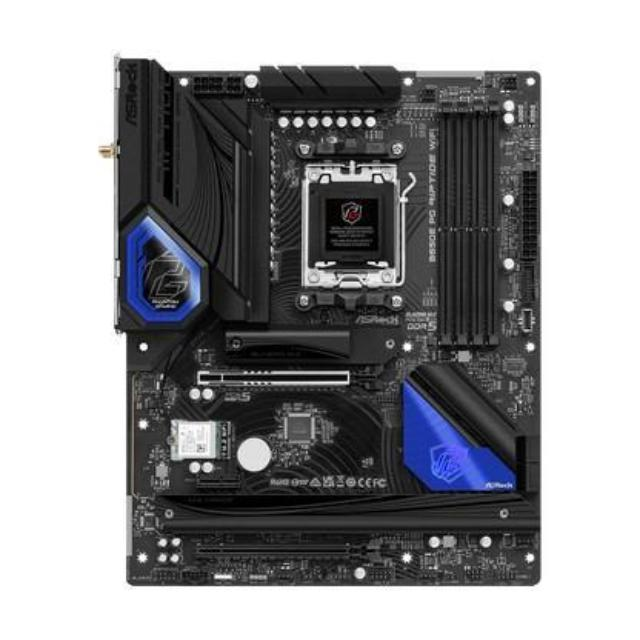Mainboard: (106, 51, 548, 591)
